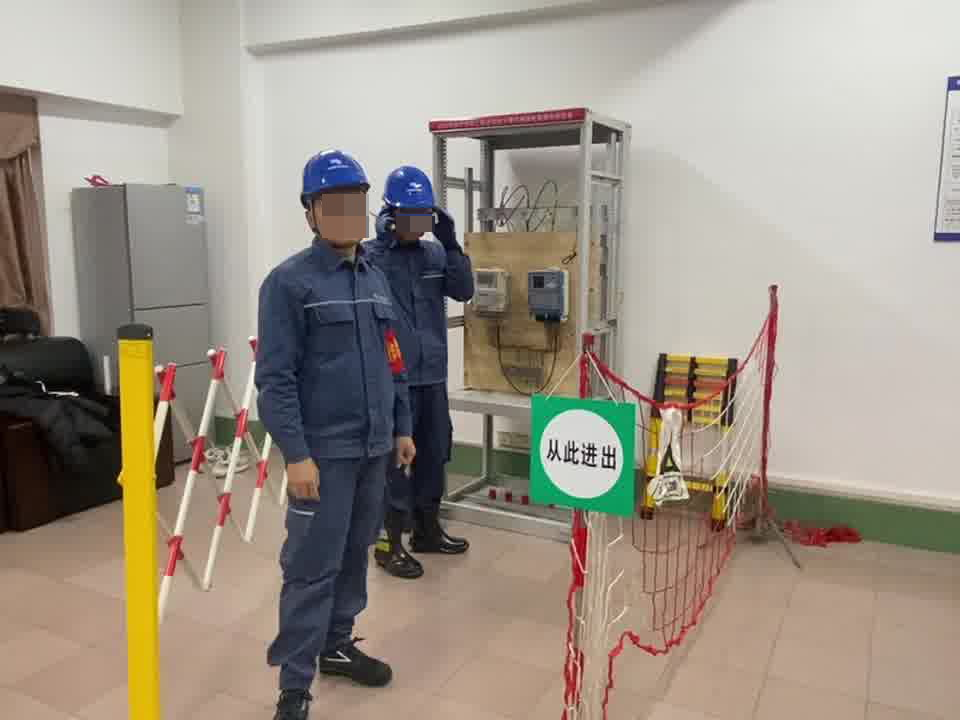badge: (383, 326, 407, 378)
downsuit: (269, 454, 392, 688)
halt: (299, 149, 374, 249), (379, 163, 439, 242)
hand: (284, 462, 324, 507), (390, 436, 417, 468)
inear: (299, 202, 323, 236)
intosign: (526, 393, 636, 521)
person: (249, 148, 415, 711), (364, 162, 479, 573)
shoe: (376, 509, 419, 579), (416, 502, 470, 552)
upsuit: (253, 241, 398, 457), (367, 225, 475, 387)
